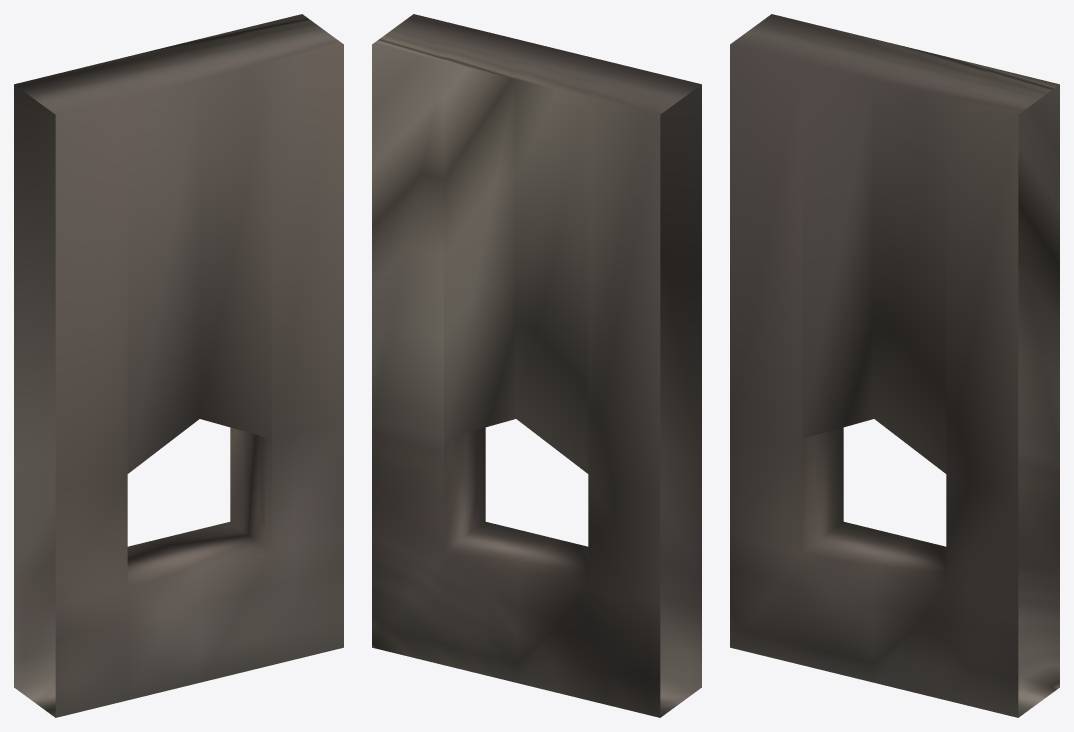
File: towerblock_window_sm.glb
3 renders of one model, left to right at view 1: azimuth 30°, elevation 25°; view 2: azimuth 150°, elevation 25°; view 3: azimuth 330°, elevation 25°, orthographic.
Visible parts, largest first — view 1: towerblock_window_sm; view 2: towerblock_window_sm; view 3: towerblock_window_sm.
Part boxes in pixels (x1,y1,x2,y2): towerblock_window_sm: (14, 14, 343, 717); towerblock_window_sm: (372, 14, 701, 717); towerblock_window_sm: (730, 14, 1059, 717).
Bounding box in the file's own units: 4 × 8 × 1.
Materials: 1 (1 with a texture image).
